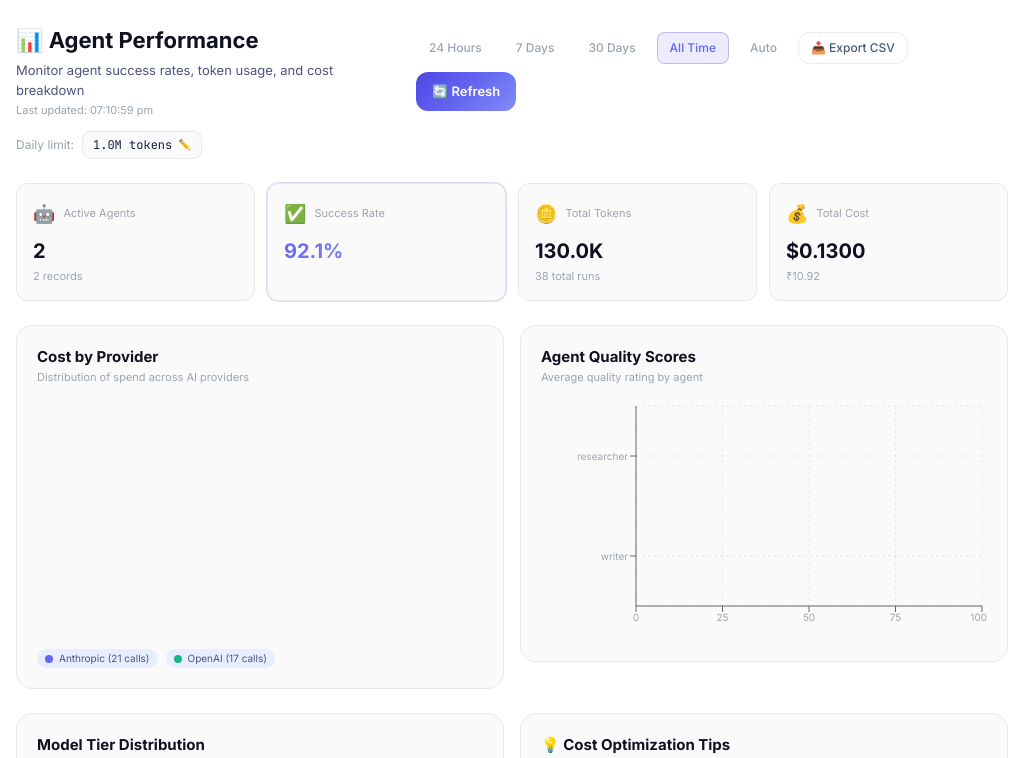
Test: PerformanceDashboard › opens budget limit editor on click
Click the button with aria-label "Click to edit daily token budget limit" at (142, 144), box [82,130,202,158]
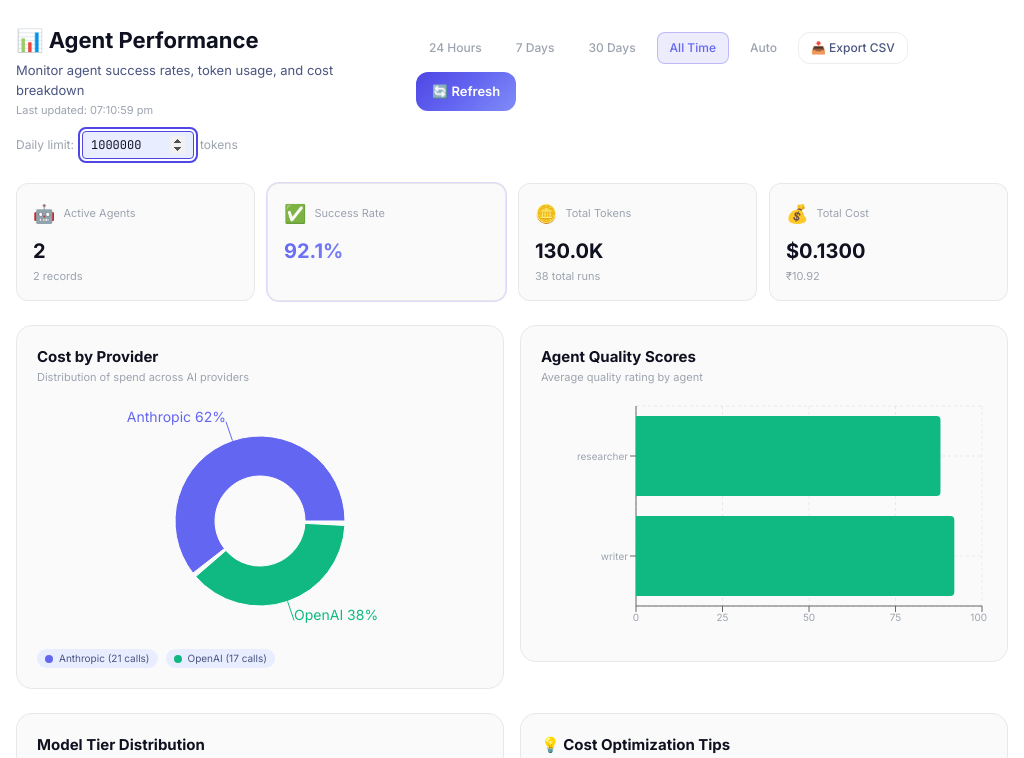
Expected: the number field named "Edit daily token budget limit" is shown, [82,130,194,158]
